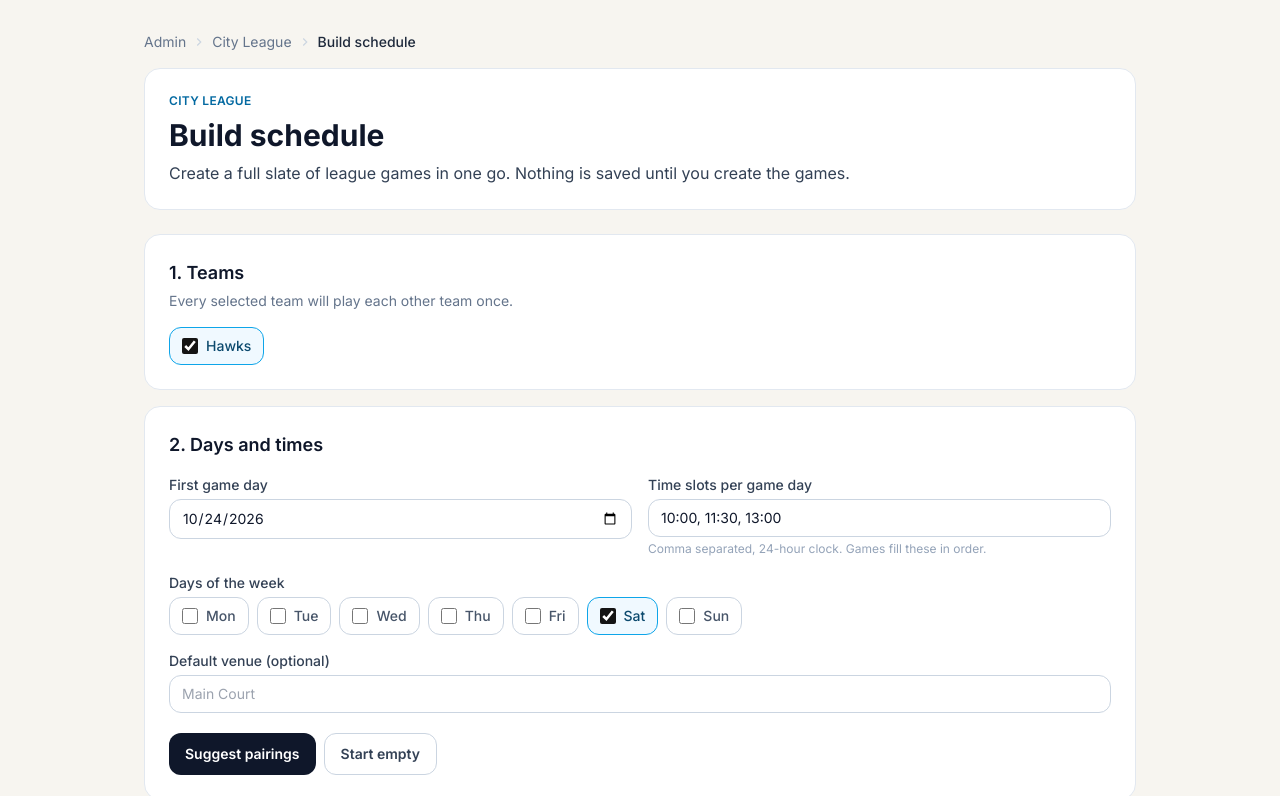
Test: AdminLeagueSchedulePage › warns instead of generating when fewer than two teams are selected
The width and height of the screenshot is (1280, 796).
Click the button "Suggest pairings".
click(242, 754)  # box [169,733,316,775]
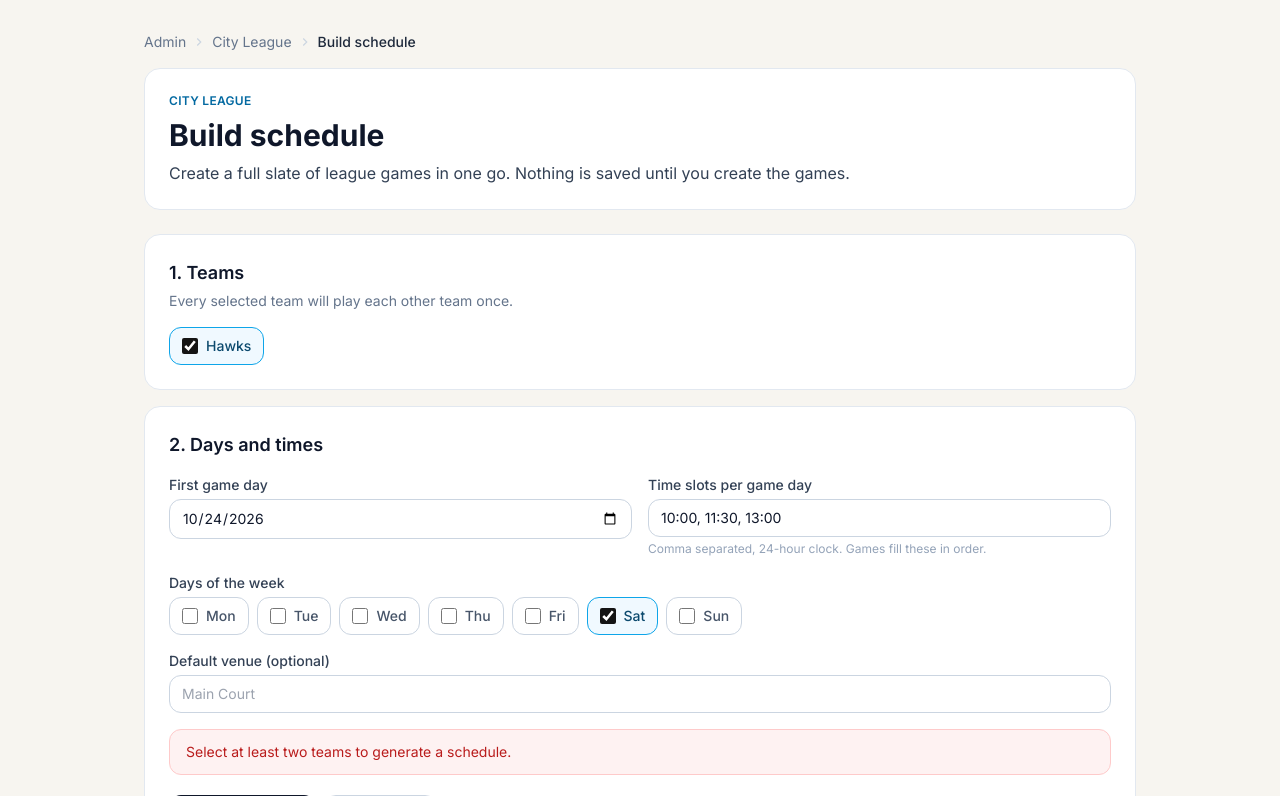
Now the text "Select at least two teams to generate a schedule." is shown, box [169,729,1111,775]
